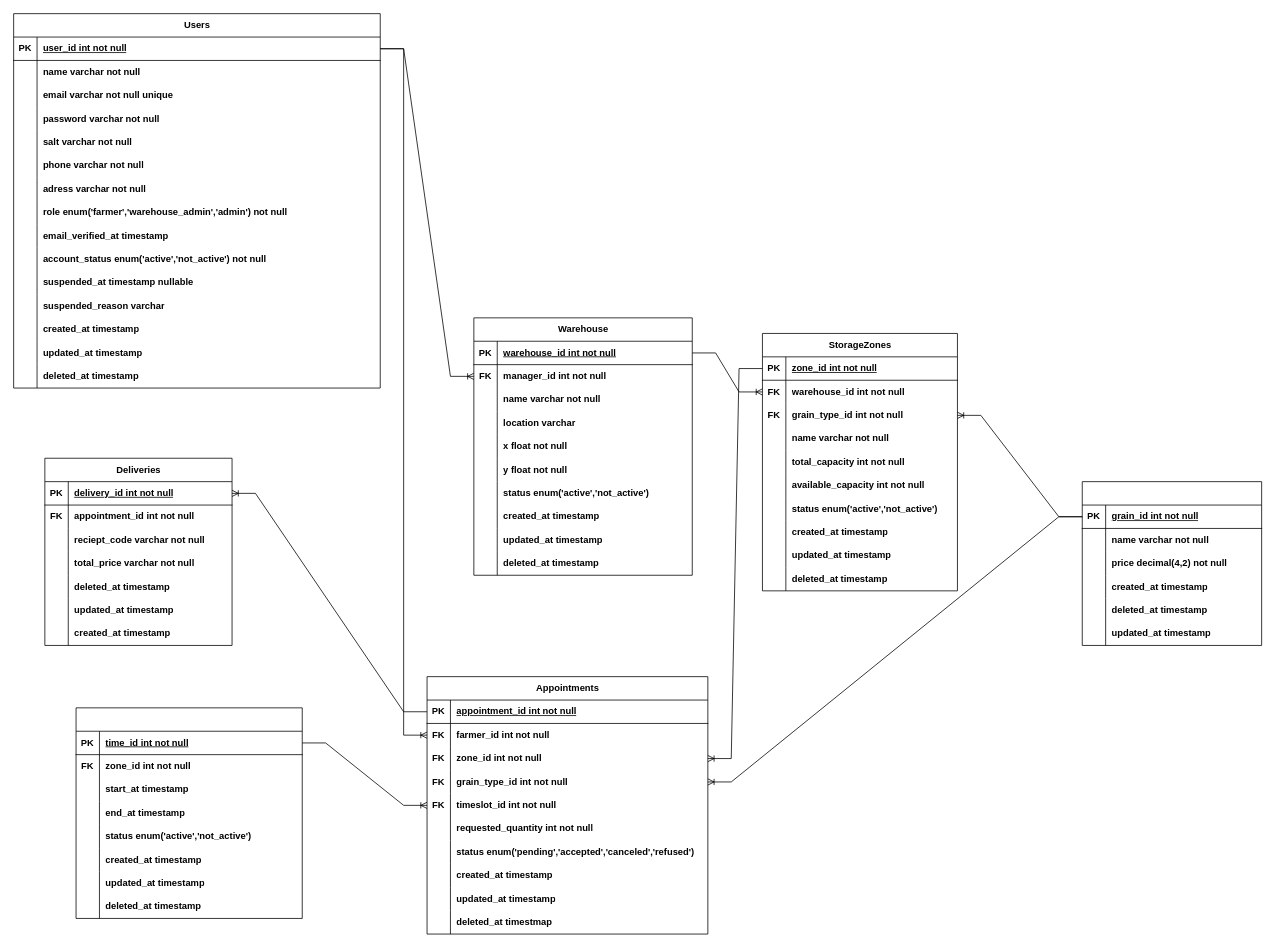
The diagram is 1275 pixels wide and 948 high, and some of its shapes have lost their labels. The shapes that lost their labels are listed below. From the top down, each one's box as (x1, y1, x2, y2) in pixels, then its label:
(1081, 481, 1262, 645): Grains
(75, 707, 302, 918): TimeSlots
